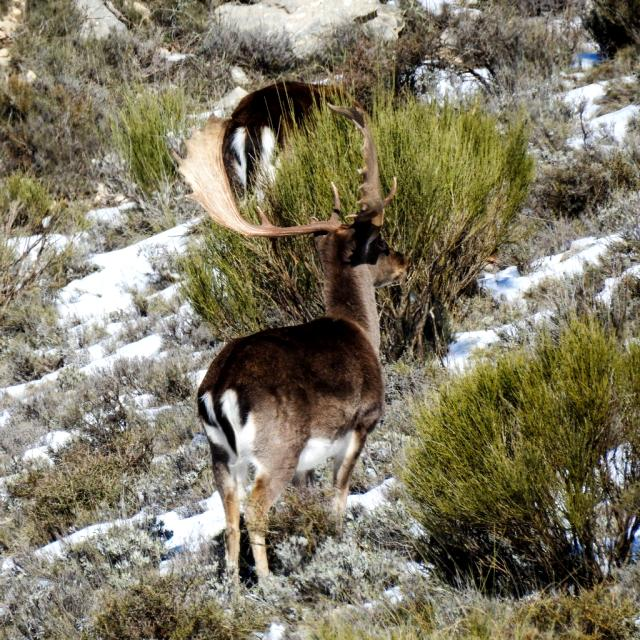deer: (162, 81, 430, 574)
